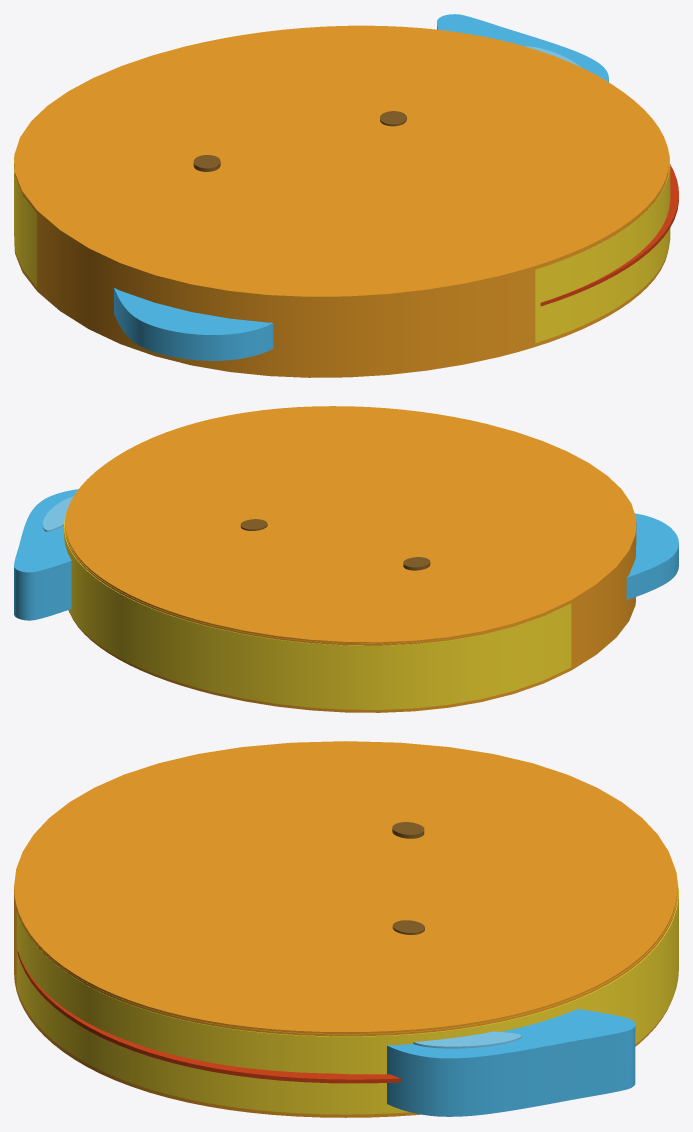
Rendered from emoji_u1f975.glb.
The picture shows the model from 3 angles, top to bottom: view 1: azimuth 30°, elevation 25°; view 2: azimuth 150°, elevation 25°; view 3: azimuth 270°, elevation 25°; orthographic projection. The views are drawn at different scales.
Parts seen in each view (by area): view 1: emoji_u1f975; view 2: emoji_u1f975; view 3: emoji_u1f975.
Part boxes in pixels (box(x1,y1,x2,y2)): emoji_u1f975: box(14, 14, 678, 377); emoji_u1f975: box(14, 406, 678, 712); emoji_u1f975: box(14, 741, 678, 1117).
Bounding box in the file's own units: 0.0337 × 0.0048 × 0.031.
